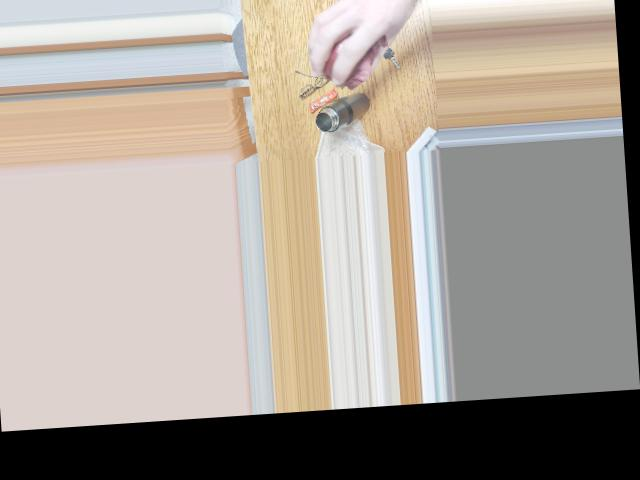onion: (315, 33, 380, 83)
